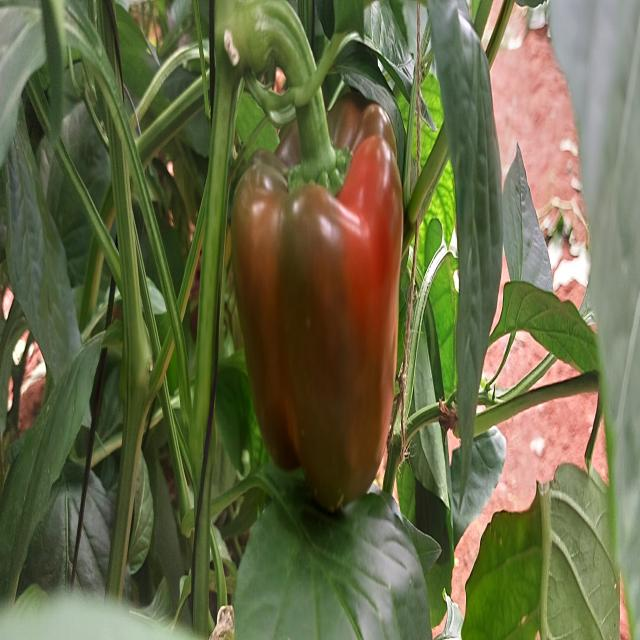BrownishRed--Can-be-Harvested: (235, 104, 413, 513)
